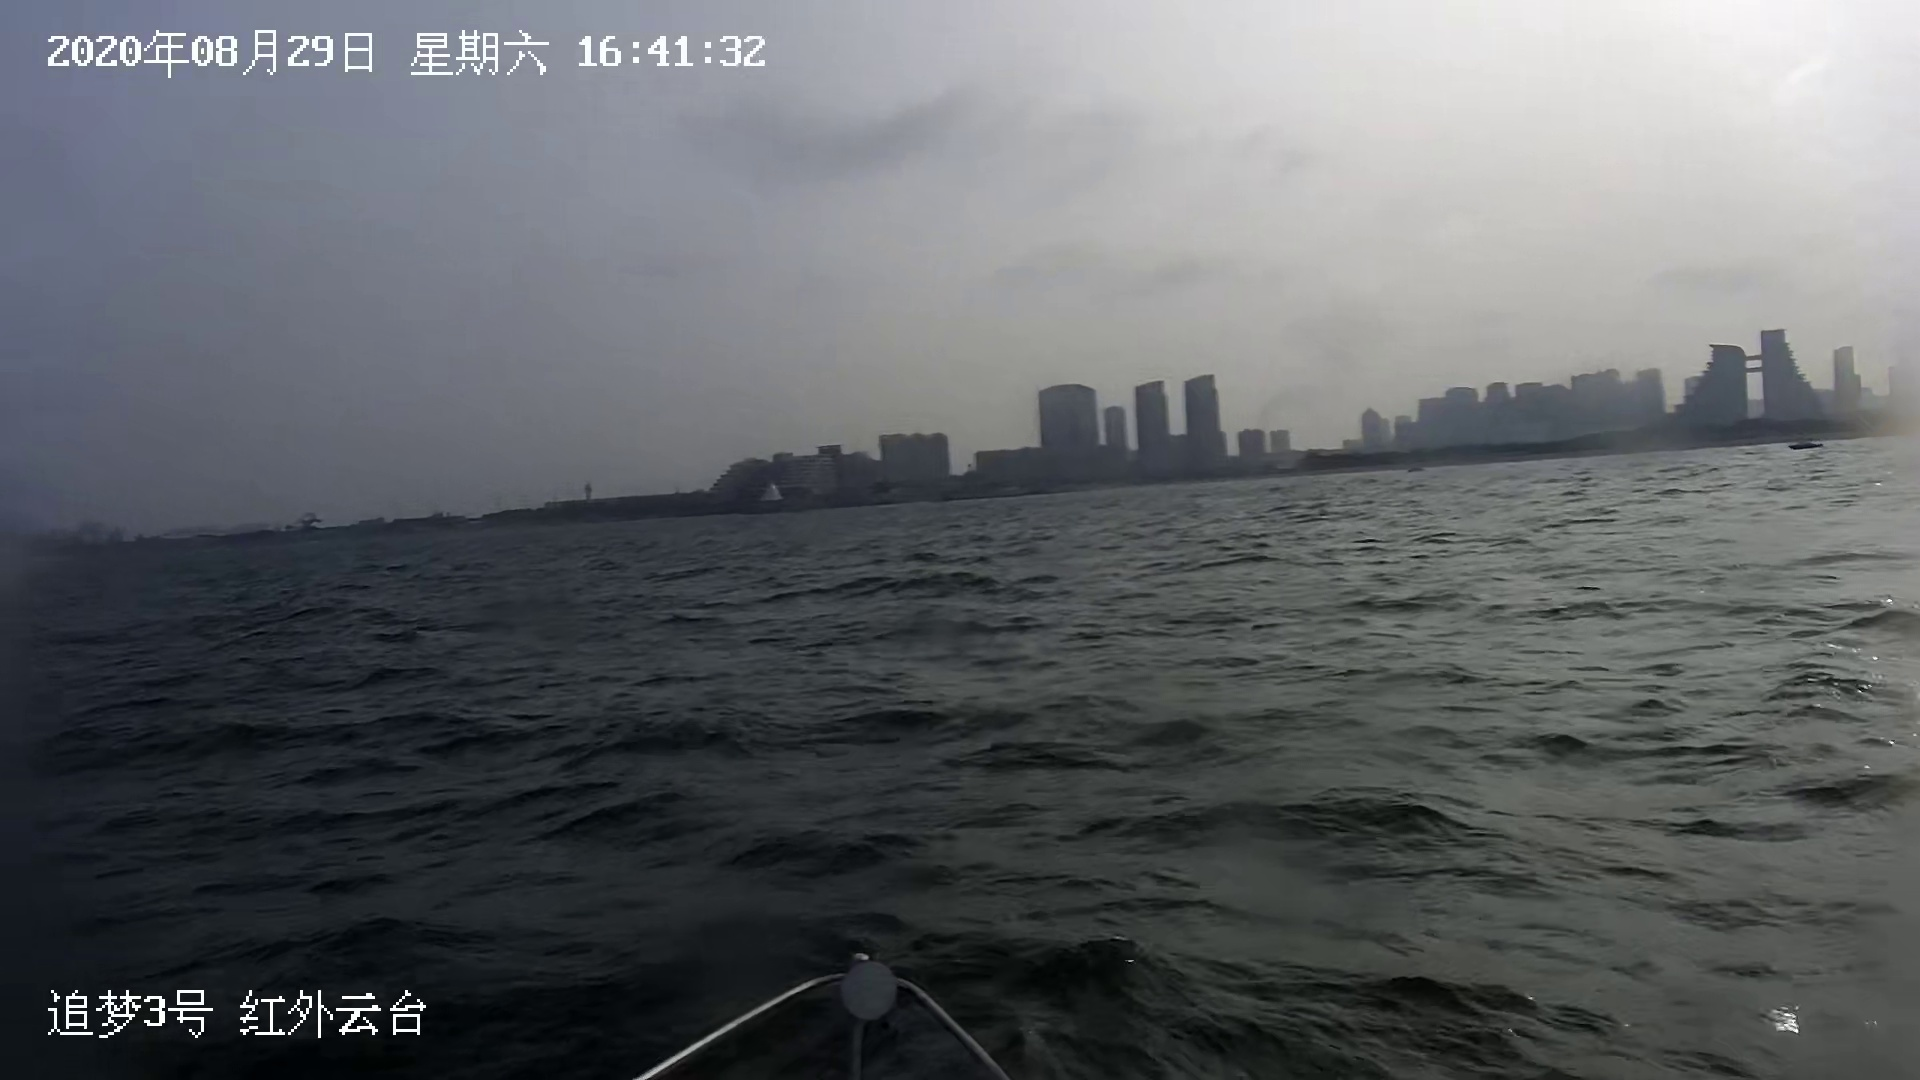coast: (61, 322, 1902, 558)
